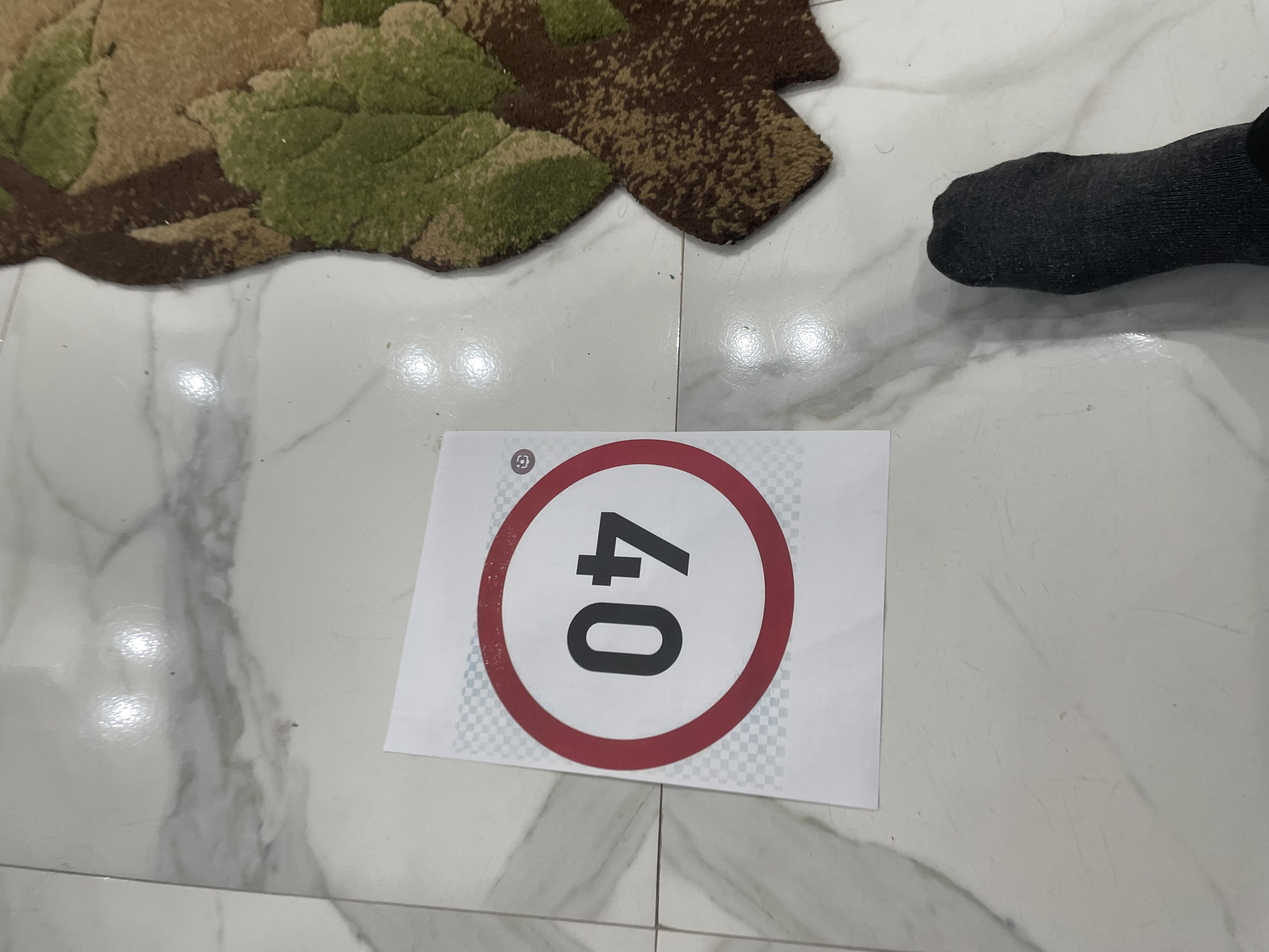40-Speed: (238, 355, 689, 595)
